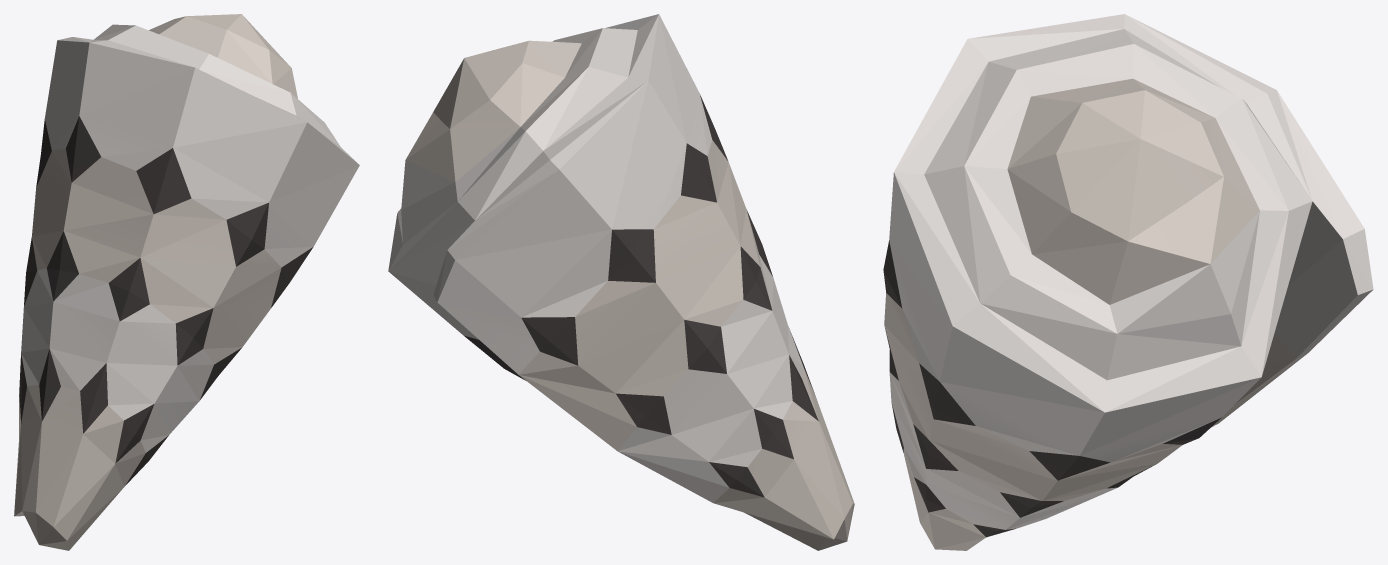
Rendered from trinketLitteratus.fbx.
The picture shows the model from 3 angles, left to right: view 1: azimuth 30°, elevation 25°; view 2: azimuth 150°, elevation 25°; view 3: azimuth 270°, elevation 25°; orthographic projection. The views are drawn at different scales.
Parts seen in each view (by area): view 1: trinketLitteratus; view 2: trinketLitteratus; view 3: trinketLitteratus.
Boxes of the visible parts, <box> form: trinketLitteratus: <box>14,14,359,550</box>; trinketLitteratus: <box>388,14,854,550</box>; trinketLitteratus: <box>883,14,1373,550</box>.
Size of the model in its own units: 1.21 by 1.46 by 1.07.
Materials: 1 (1 with a texture image).
